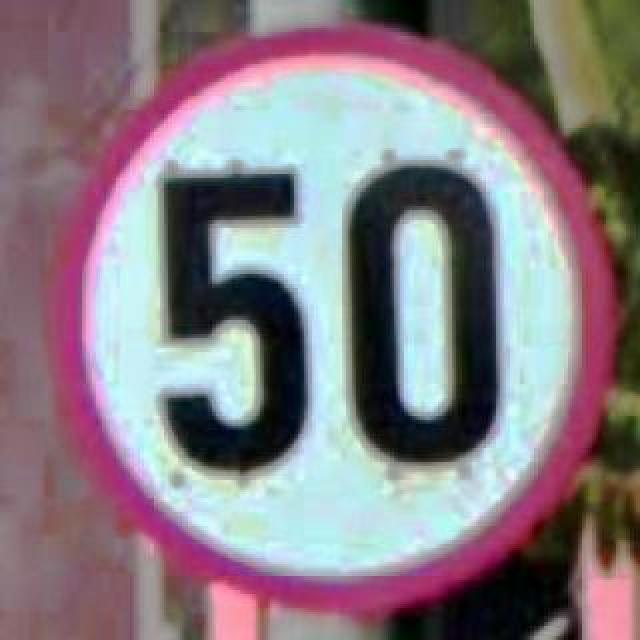50 kph: (34, 18, 610, 612)
